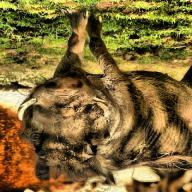boar: (17, 20, 192, 191)
